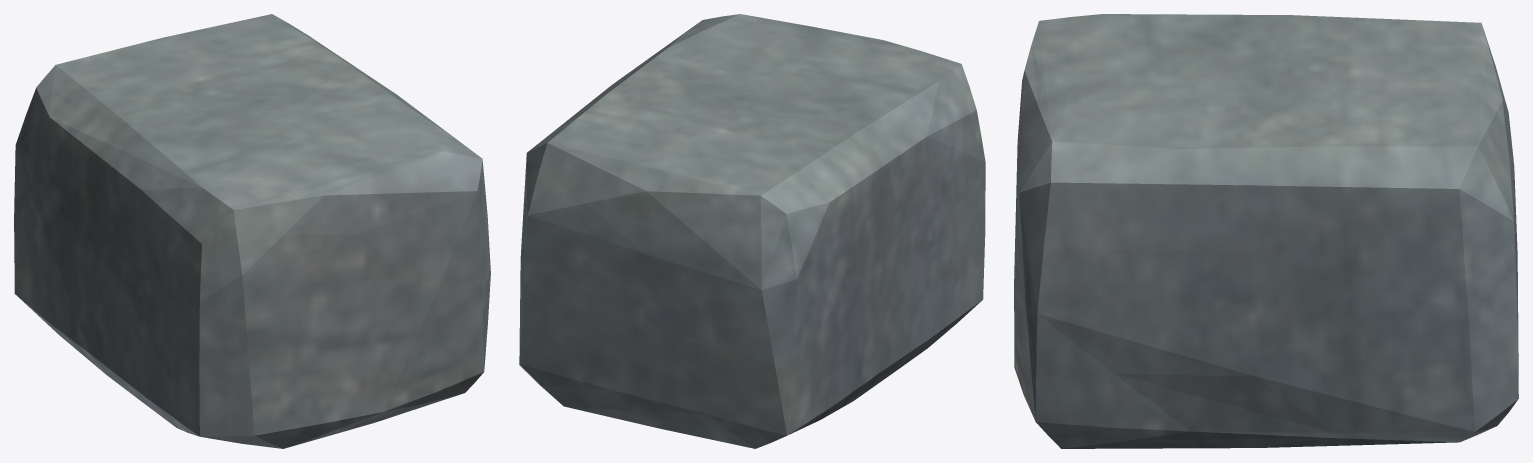
Rendered from rocks_011.fbx.
The picture shows the model from 3 angles, left to right: view 1: azimuth 30°, elevation 25°; view 2: azimuth 150°, elevation 25°; view 3: azimuth 270°, elevation 25°; orthographic projection. The views are drawn at different scales.
Visible parts, largest first — view 1: rocks.011; view 2: rocks.011; view 3: rocks.011.
Boxes of the visible parts, x1,y1,x2,y2 form: rocks.011: (14,14,490,448); rocks.011: (519,14,985,448); rocks.011: (1014,14,1518,448).
Bounding box in the file's own units: 84 × 71.75 × 108.
